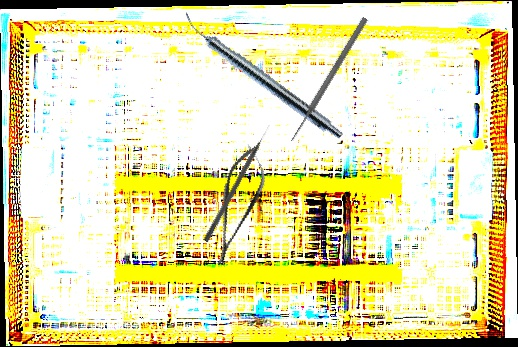Handpiece: (176, 11, 348, 143)
Micro Scissor: (199, 140, 276, 271)
Pusher: (287, 15, 370, 144), (202, 124, 274, 243)
